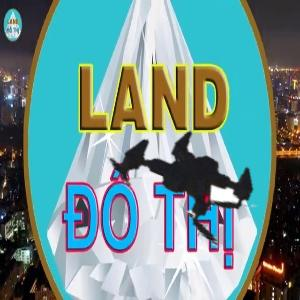drone: (73, 80, 291, 298)
